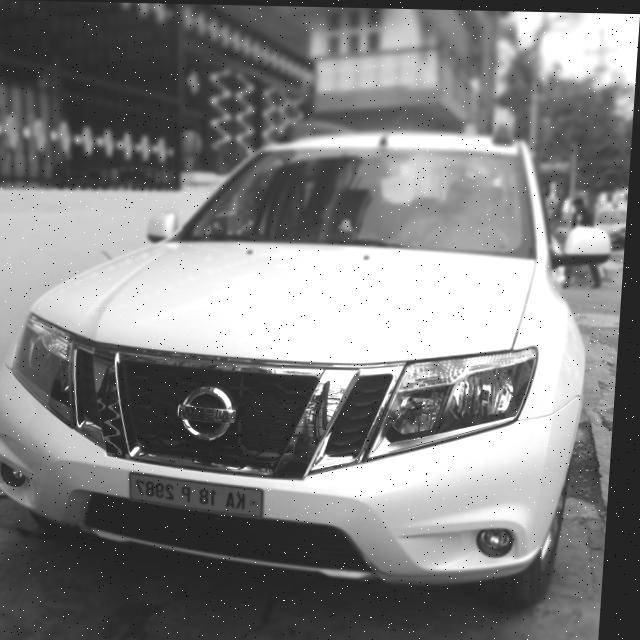plate: (133, 470, 274, 516)
